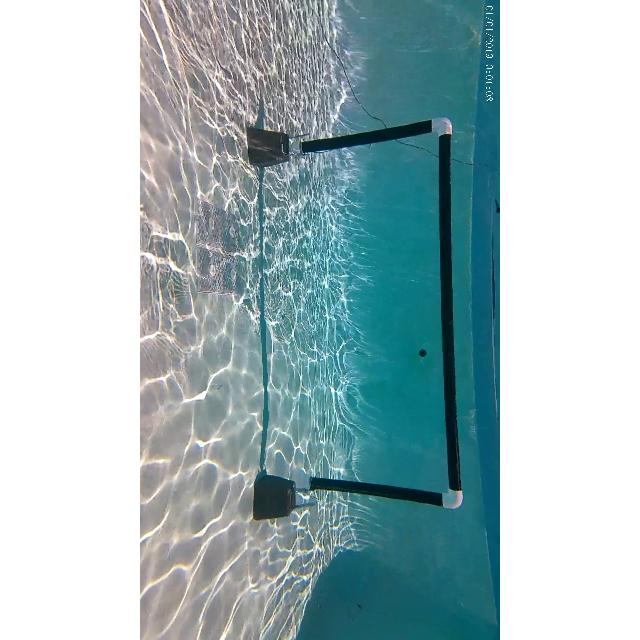prequal gate: (288, 117, 466, 509)
prequal gate leg l: (254, 115, 452, 153)
prequal gate leg r: (258, 471, 472, 527)
